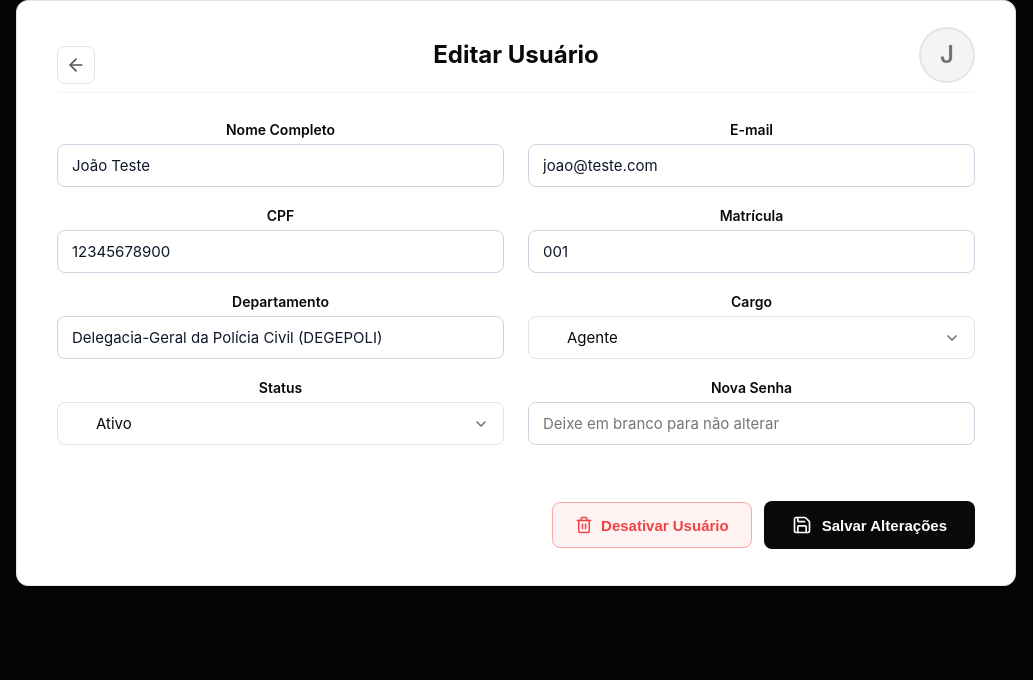
Test: UsuarioEditContainer Component › deve permitir desativar o usuário
The image size is (1033, 680).
Expected: the field showing "João Teste" is shown, [57,144,504,187]
Click the button "Desativar Usuário" at (652, 525), box [552,502,752,548]
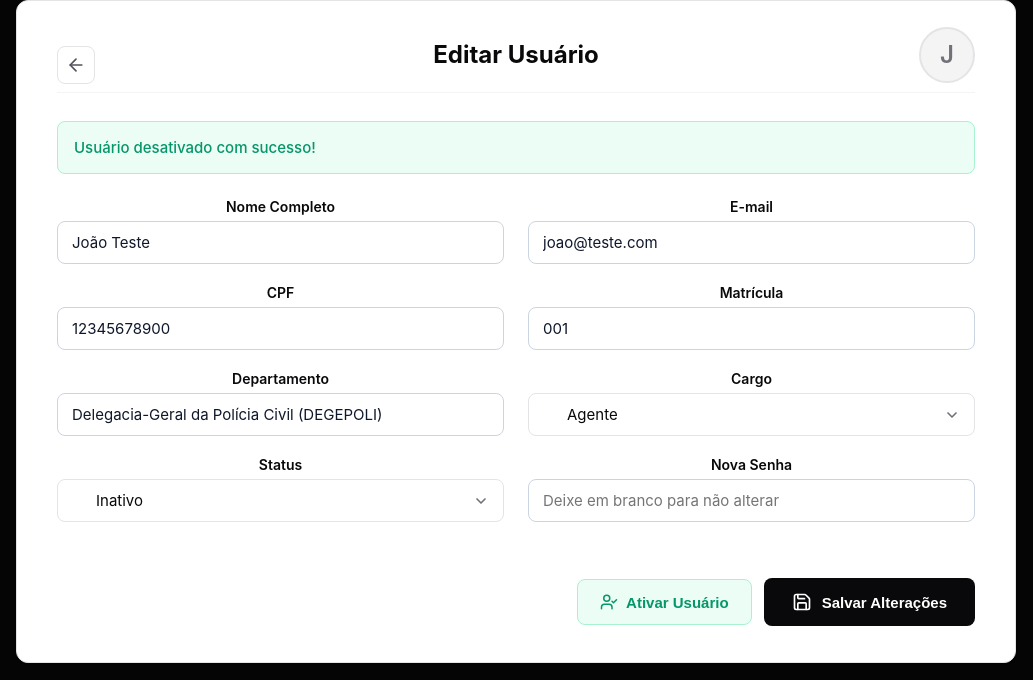
Result: the text "Usuário desativado com sucesso!" is shown at [57,121,975,174]
